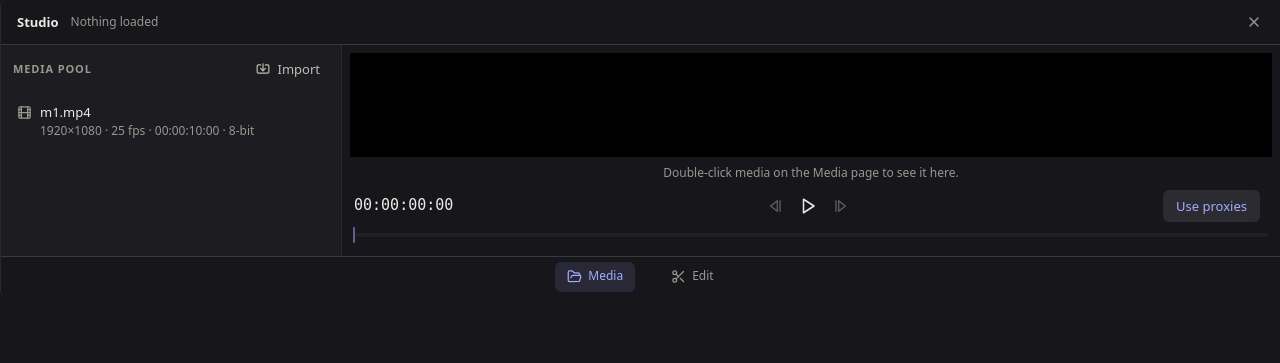
Test: the media pool › says why media could not be loaded
The image size is (1280, 363).
Step 1. Double-click the option "m1.mp4 1920×1080 · 25 fps · 00:00:10:00 · 8-bit" → (136, 121), box [17,103,254,139]
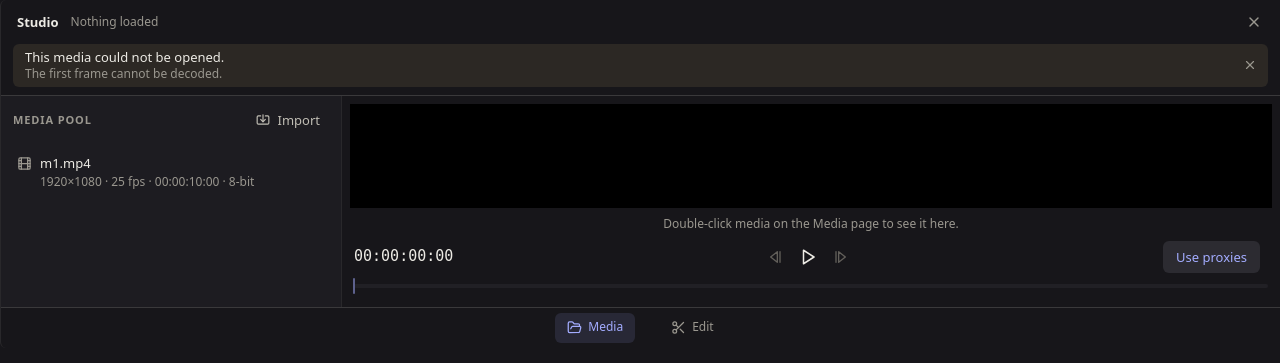
Check: the text "This media could not be opened." is shown, box [25,48,224,66]
Check: the text "The first frame cannot be decoded." is shown, box [25,65,222,82]
